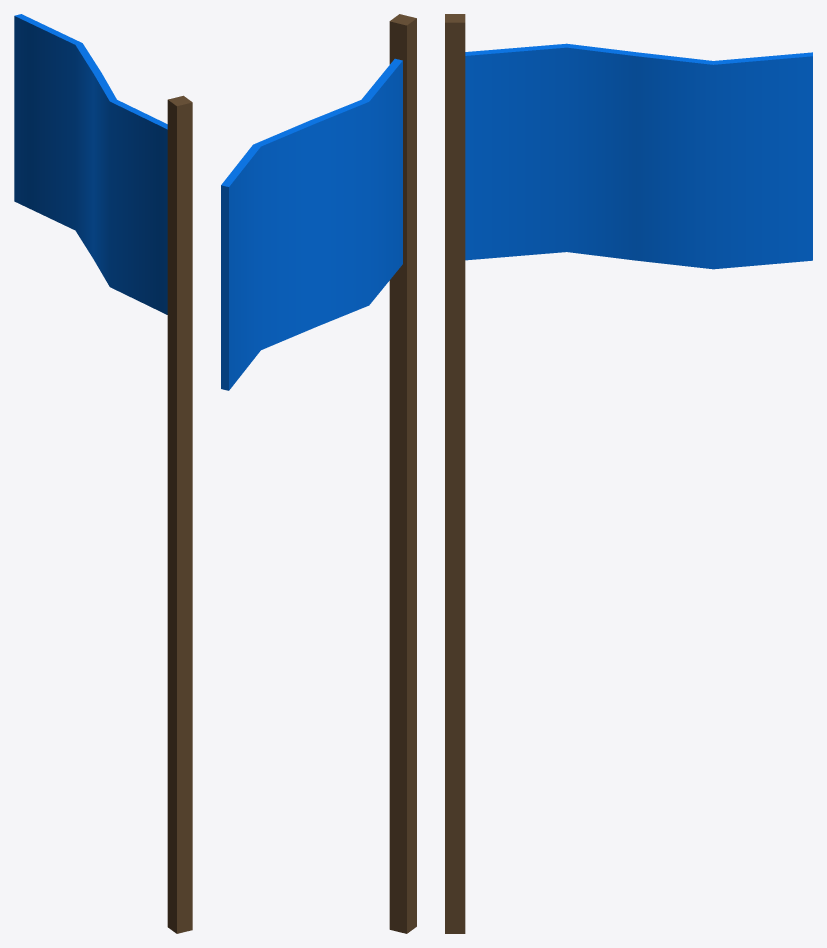
3 views of the same model, side by side, from view 1: azimuth 30°, elevation 25°; view 2: azimuth 150°, elevation 25°; view 3: azimuth 270°, elevation 25° (orthographic). The views are drawn at different scales.
Parts seen in each view (by area): view 1: Box001; view 2: Box001; view 3: Box001.
Boxes of the visible parts, x1=… form: Box001: x1=14, y1=14, x2=192, y2=933; Box001: x1=221, y1=14, x2=416, y2=933; Box001: x1=445, y1=14, x2=812, y2=933.
Size of the model in its own units: 5.89 by 118 by 43.21.
1 material, 1 textured.
